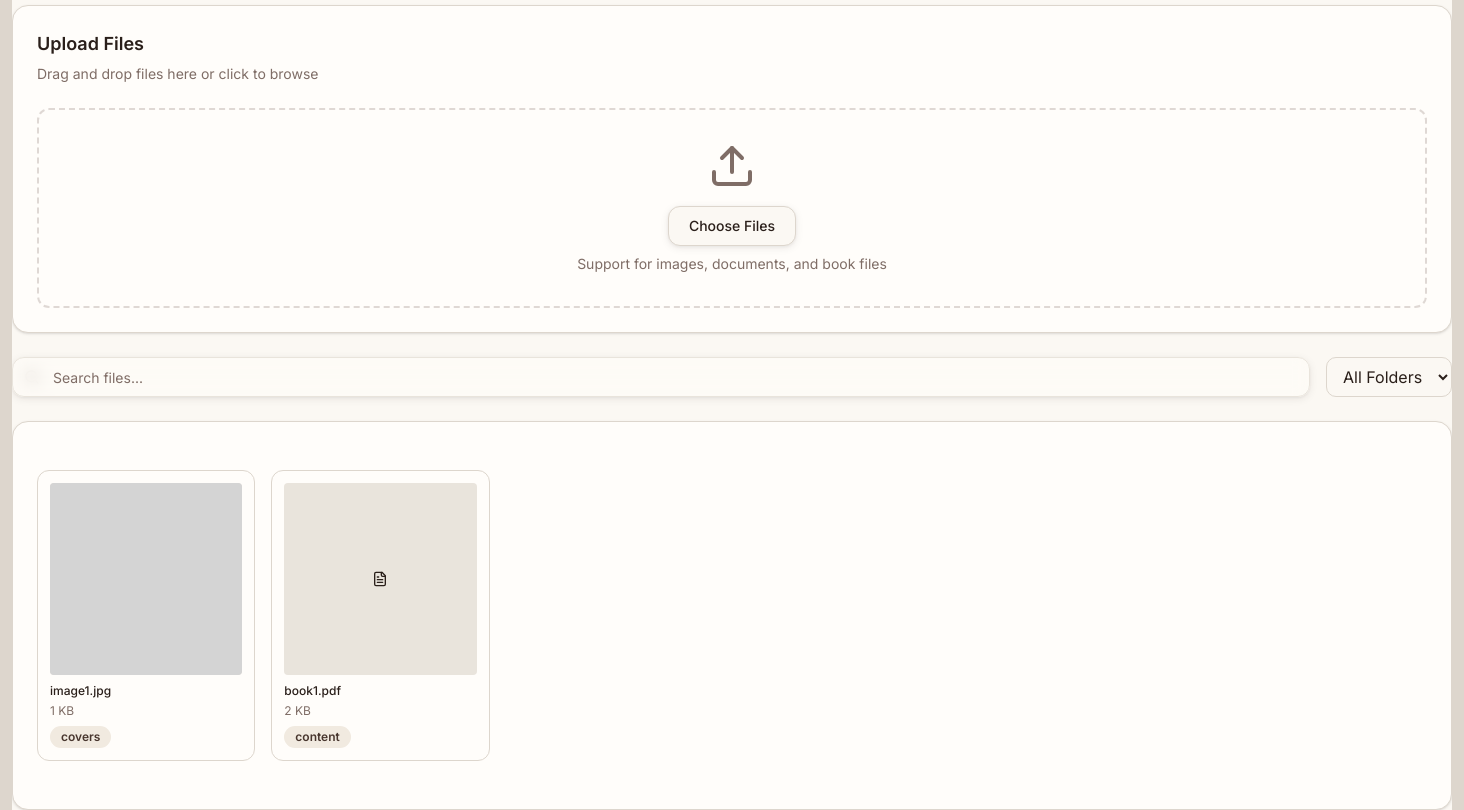
MediaManager › should handle file selection
(page scrolled)
Expected: the text "image1.jpg" is shown, x1=50 y1=683 x2=111 y2=698
Click on a file to select it
What coordinates should you click on to do the following:
click the text "image1.jpg"
I would click on:
 (81, 691)
Its box is x1=50 y1=683 x2=111 y2=748.
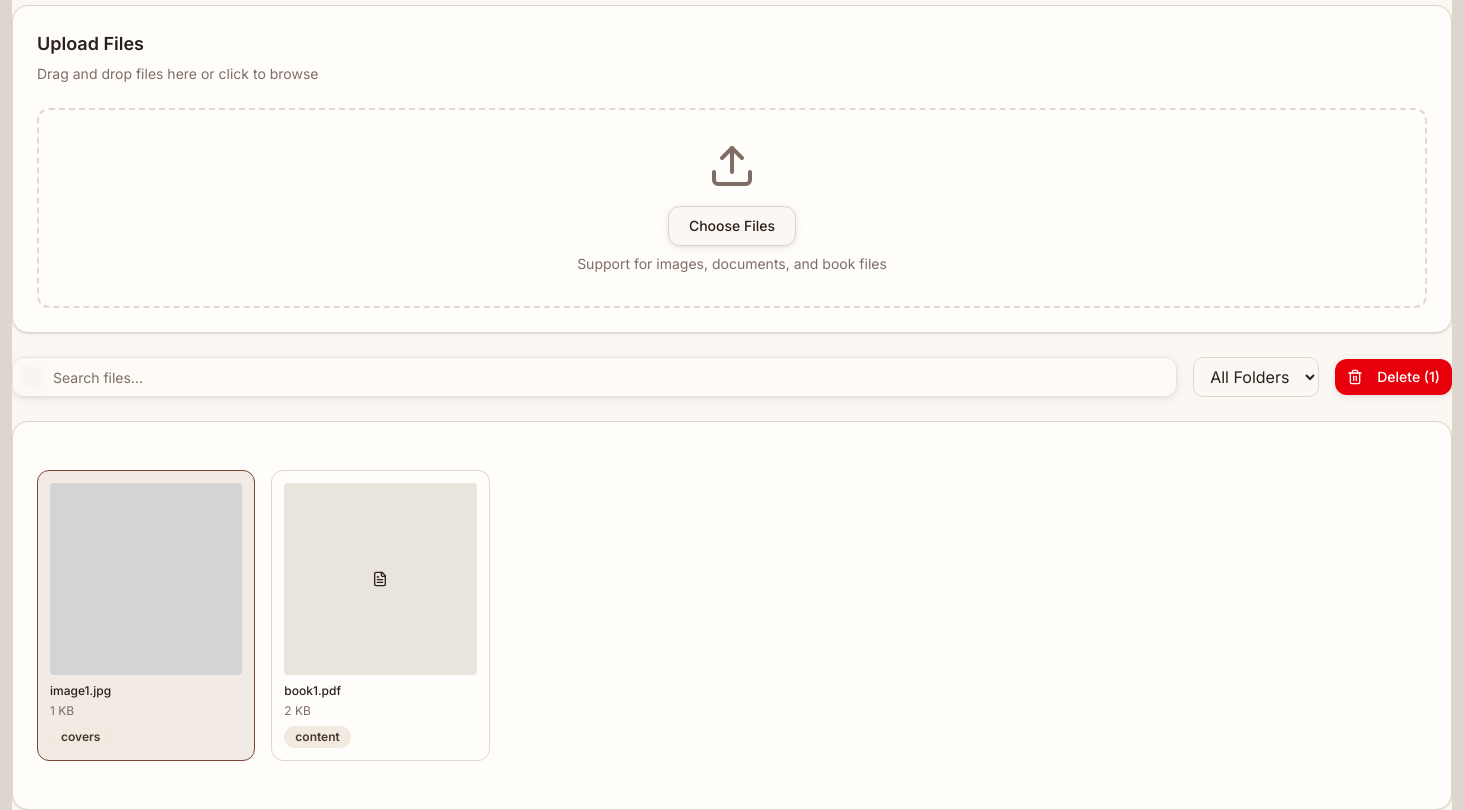
Result: the button "Delete (1)" is shown at x1=1335 y1=359 x2=1452 y2=395
